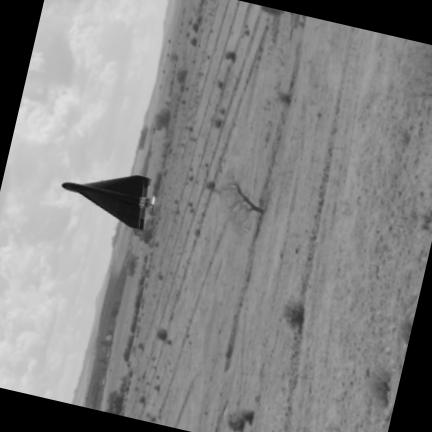Shahed: (62, 174, 155, 229)
